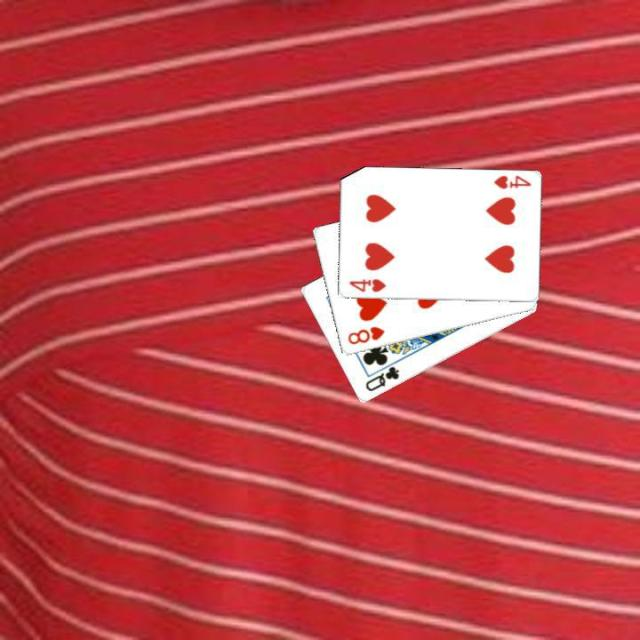4H: (345, 275, 387, 294), (490, 172, 532, 191)
8H: (344, 322, 387, 347)
QC: (361, 362, 401, 393)
